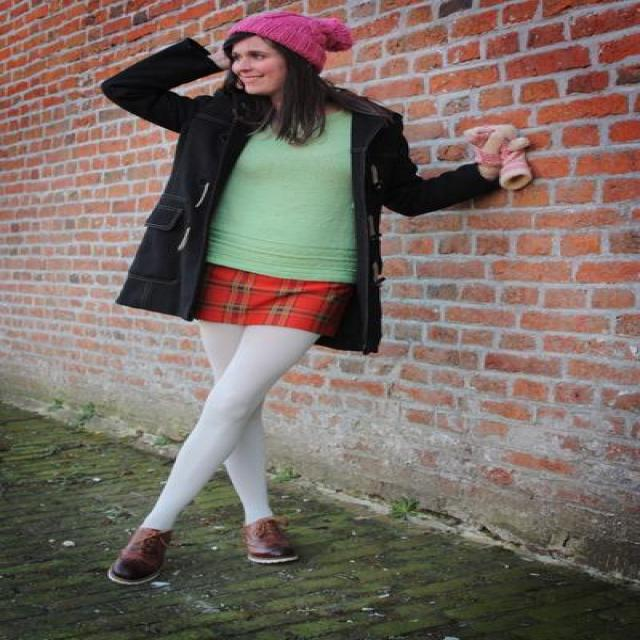hat: (230, 13, 350, 63)
jacket: (101, 39, 501, 354)
pants: (142, 322, 318, 524)
shirt: (212, 110, 354, 281)
shoe: (109, 514, 310, 586)
skirt: (198, 269, 338, 337)
